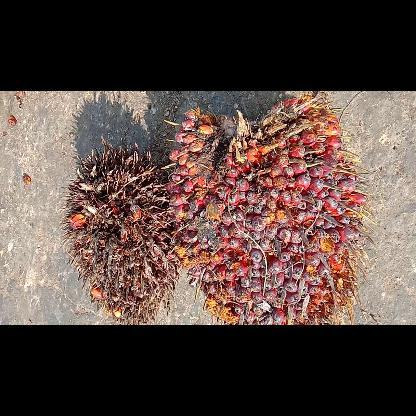TBS masak: (168, 94, 376, 324)
Terlalu masak: (64, 140, 180, 324)
